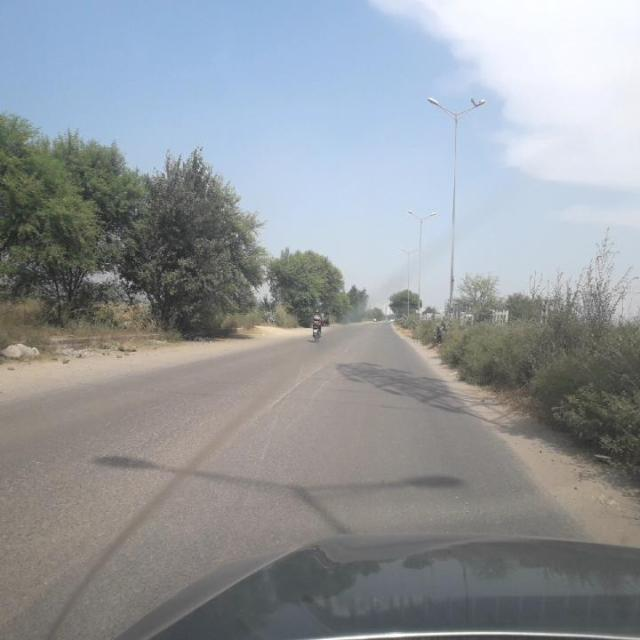D00: (180, 356, 334, 479)
